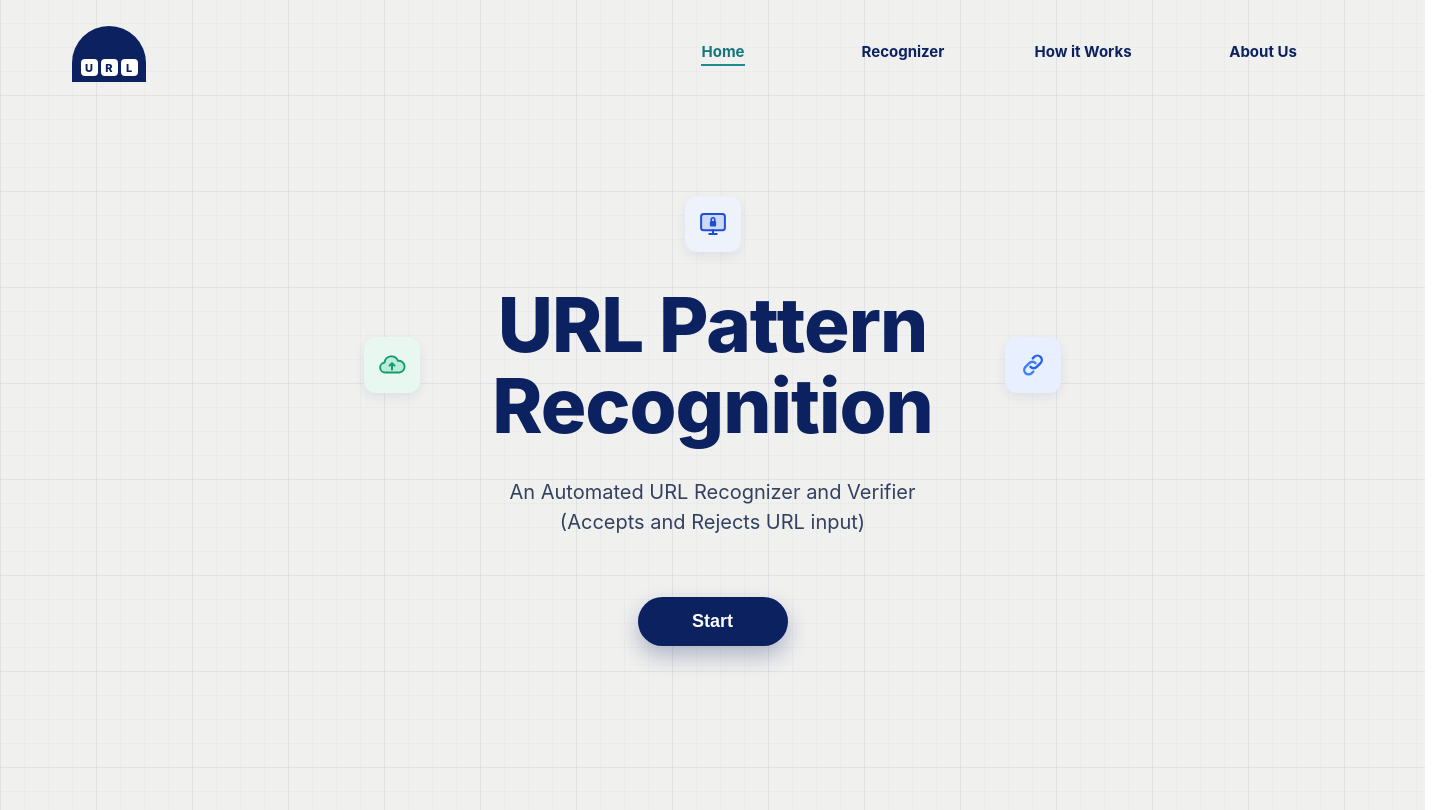
Scenario: opens the full home page and navigates into the styled recognizer
Check: the heading named "URL Pattern Recognition" is shown, box [492,284,933,445]
Check: the navigation bar named "Main navigation" is shown, box [702,42,1297,66]
Click the button "Start" at (712, 622), box [638,597,788,646]
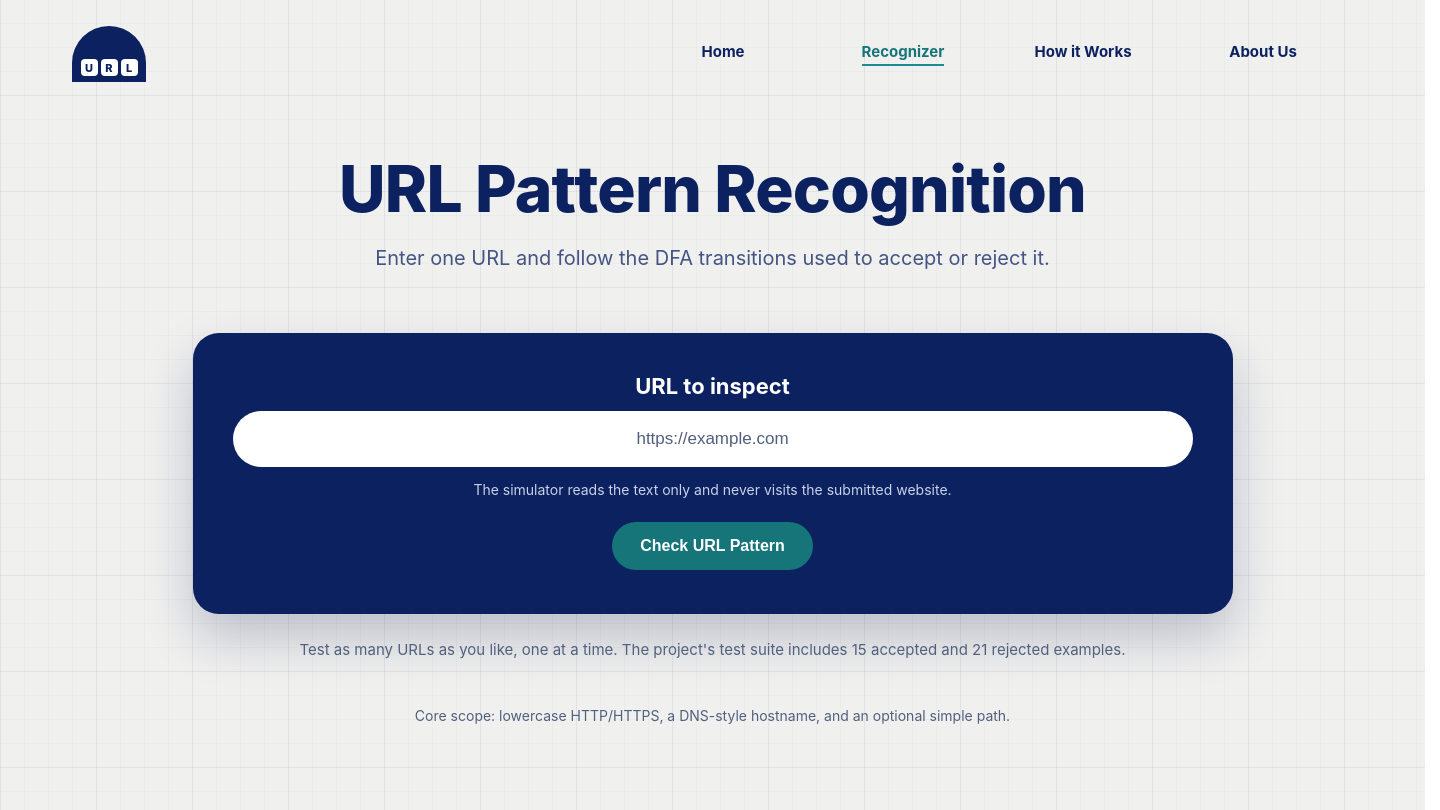
Check: the field labelled "URL to inspect" is shown, box [232,411,1192,467]
